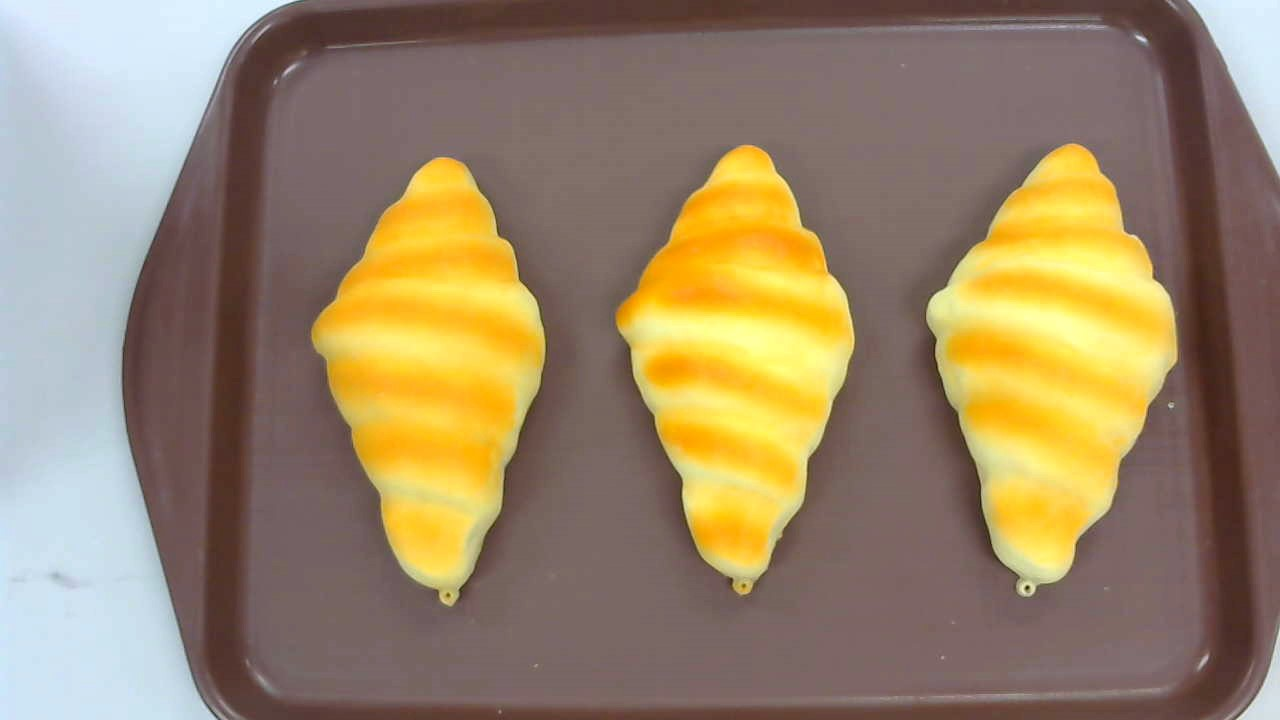croissant: (927, 143, 1177, 597), (614, 144, 855, 594), (310, 156, 547, 607)
